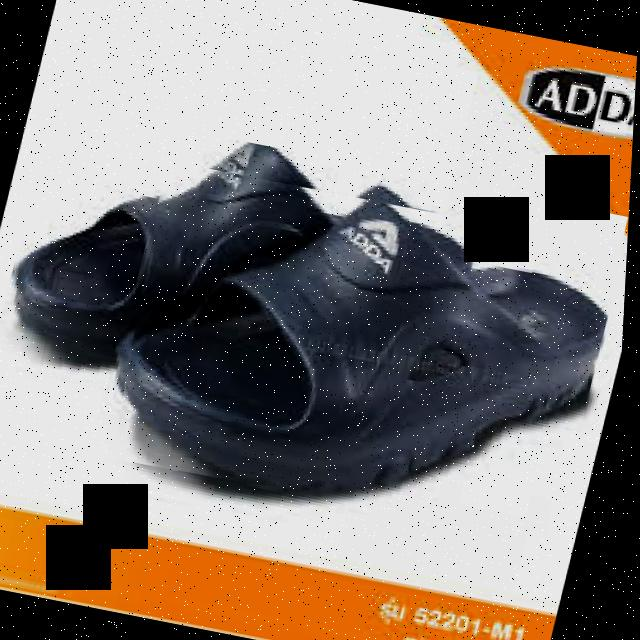shoe: (0, 104, 635, 547), (95, 160, 630, 546)
